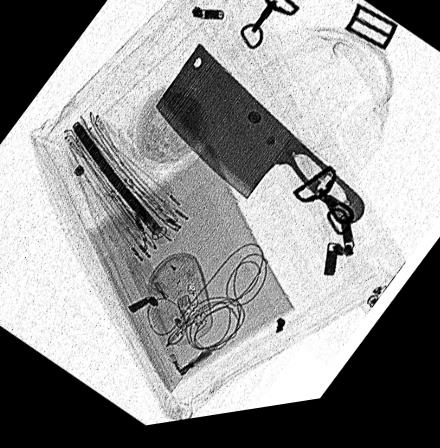Knife: (152, 48, 365, 236)
